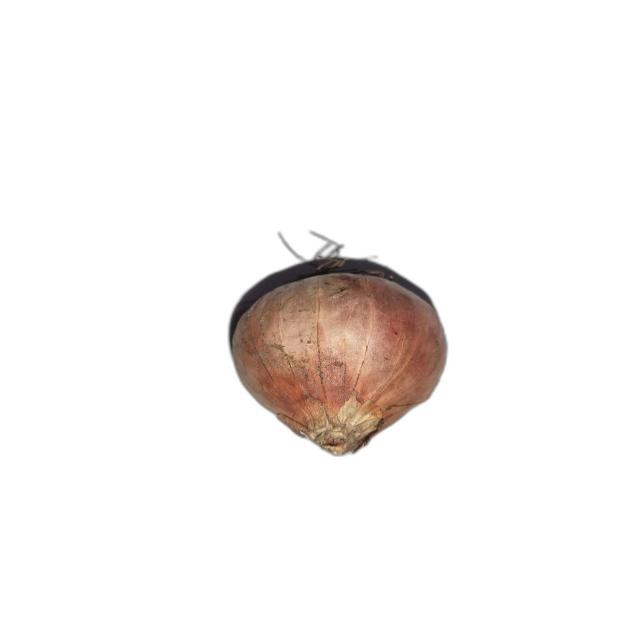onion: (229, 255, 450, 456)
